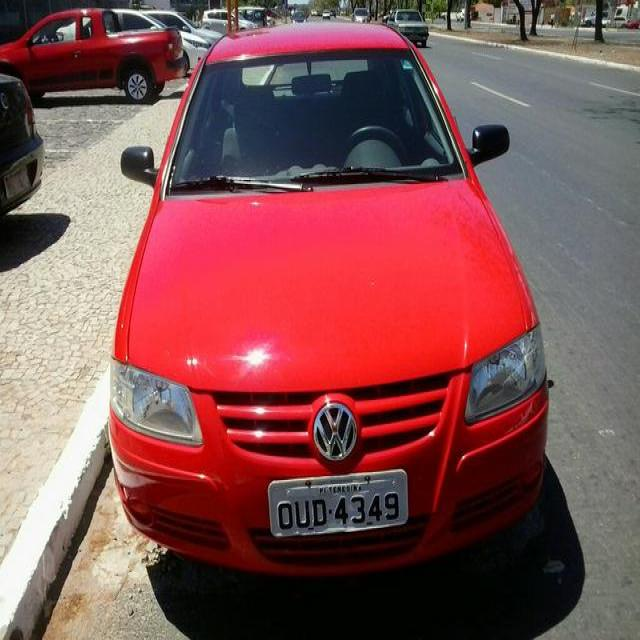Placa: (263, 461, 413, 543)
